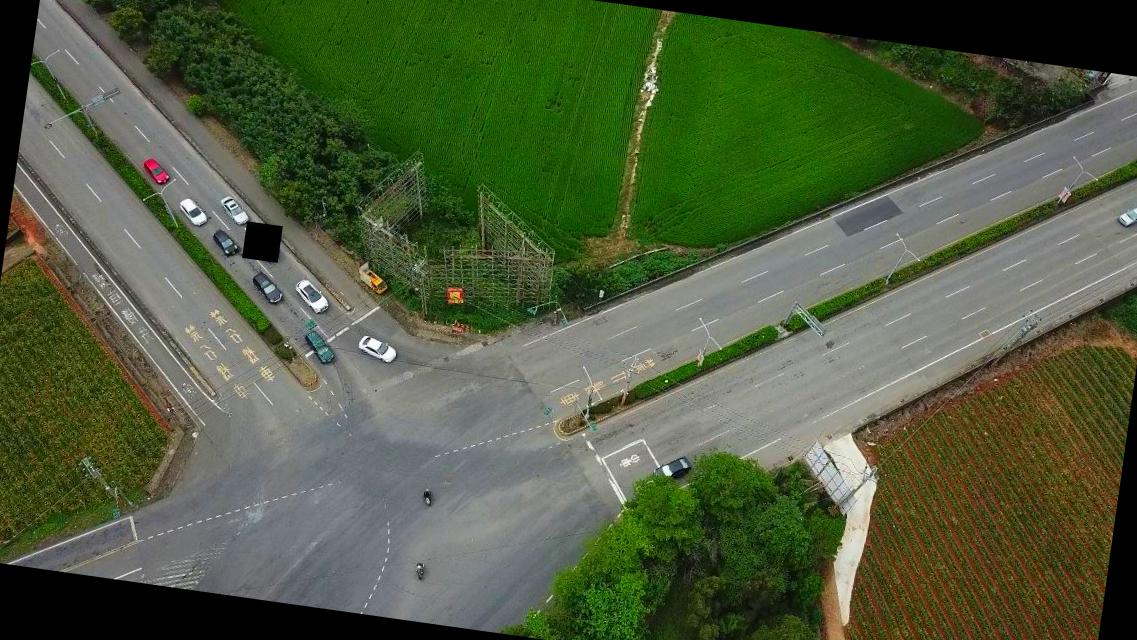vehicle: (290, 276, 333, 316), (650, 452, 694, 486), (247, 267, 286, 304), (300, 329, 338, 366), (358, 336, 400, 366), (218, 194, 253, 227), (176, 196, 209, 226), (141, 156, 172, 186), (361, 268, 391, 296), (211, 230, 240, 256), (1116, 200, 1136, 230)
